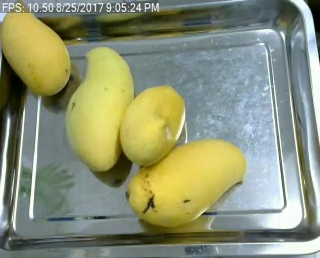Mango: (124, 142, 248, 227), (63, 47, 135, 173), (0, 0, 72, 96), (117, 84, 189, 170)
